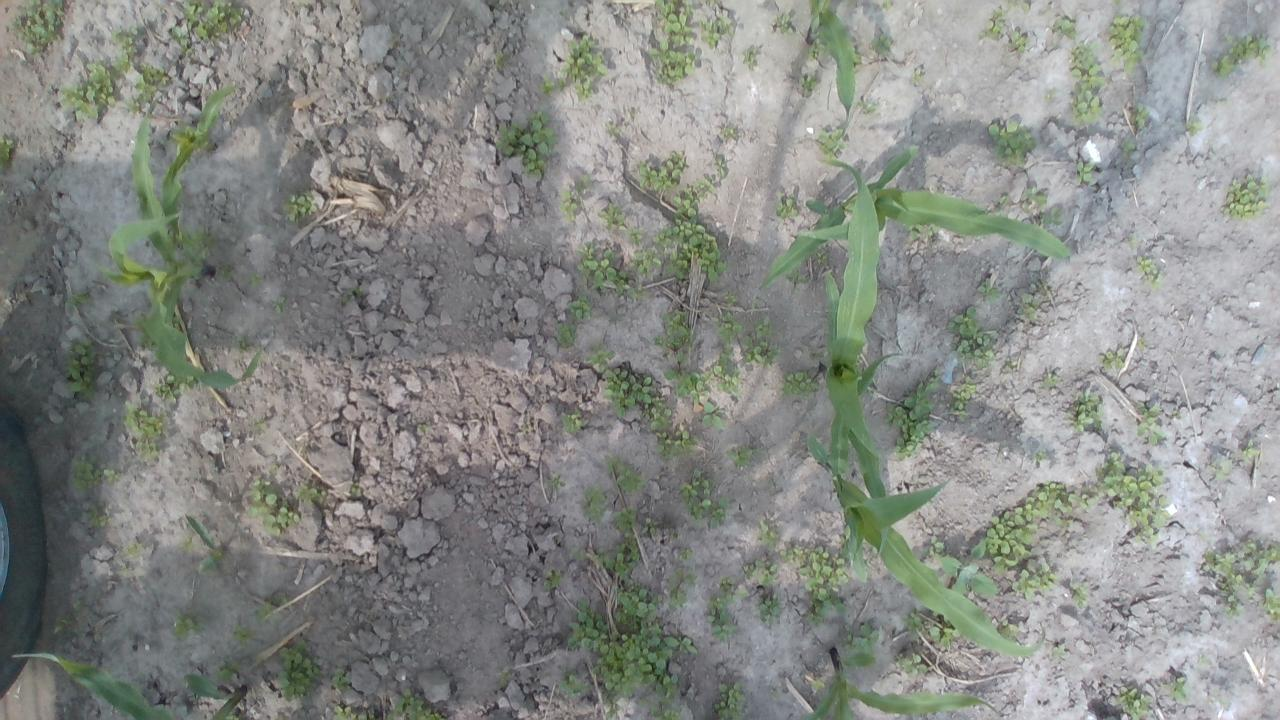Maize: (802, 350, 1043, 660), (746, 145, 1072, 328), (96, 108, 267, 398), (821, 154, 893, 554), (2, 652, 248, 720), (794, 645, 994, 720), (158, 84, 235, 229), (806, 0, 856, 150)
Weeds: (972, 482, 1076, 572), (1094, 450, 1170, 546), (1201, 538, 1280, 622), (595, 625, 673, 697), (884, 374, 942, 461), (654, 218, 728, 282), (798, 546, 848, 628), (496, 110, 556, 178), (60, 58, 119, 126), (558, 34, 608, 102), (1069, 39, 1106, 126), (946, 304, 996, 368), (10, 0, 66, 54), (247, 478, 299, 536), (706, 574, 750, 642), (934, 552, 997, 598), (1104, 11, 1148, 76), (277, 640, 320, 702), (574, 242, 625, 294), (182, 514, 225, 575), (602, 366, 652, 417), (182, 0, 240, 43), (124, 61, 170, 115), (1221, 173, 1270, 220), (649, 39, 698, 86), (64, 335, 98, 400), (592, 533, 640, 579), (568, 598, 608, 652), (613, 580, 661, 624), (988, 122, 1036, 166), (384, 688, 448, 720), (636, 150, 687, 190), (121, 399, 169, 441), (654, 0, 695, 48), (1065, 388, 1106, 435), (680, 468, 714, 524), (664, 368, 715, 405), (1011, 562, 1060, 600), (604, 452, 646, 494), (672, 178, 716, 218), (1226, 31, 1272, 66), (180, 222, 222, 260), (650, 674, 684, 720), (838, 619, 880, 655), (1134, 400, 1166, 446), (656, 426, 698, 461), (950, 373, 979, 423), (714, 348, 742, 397), (154, 371, 198, 402), (661, 307, 695, 347), (110, 25, 138, 72), (700, 14, 735, 51), (69, 452, 101, 492), (1117, 684, 1152, 720), (282, 187, 318, 222), (714, 681, 746, 720), (668, 566, 696, 610), (779, 369, 820, 399), (741, 336, 780, 367), (711, 308, 742, 344), (1134, 254, 1164, 290), (582, 483, 607, 525), (643, 395, 673, 430), (171, 610, 206, 640), (628, 246, 662, 276), (816, 127, 847, 159), (977, 6, 1006, 40), (557, 668, 588, 698), (895, 649, 929, 676), (901, 606, 928, 640), (757, 591, 783, 626), (1015, 292, 1045, 322), (596, 202, 626, 232), (254, 596, 288, 622), (586, 342, 614, 373), (744, 558, 776, 585), (724, 445, 760, 468), (566, 292, 593, 322), (902, 218, 938, 240), (84, 499, 110, 528), (1204, 456, 1234, 481), (774, 188, 799, 218), (663, 635, 699, 655), (702, 400, 726, 430), (170, 24, 192, 56), (612, 505, 636, 534), (559, 190, 581, 221), (976, 276, 1002, 302), (784, 268, 810, 294), (757, 520, 781, 548), (1160, 676, 1186, 701), (1240, 437, 1262, 466), (294, 484, 327, 503), (996, 618, 1020, 644), (216, 658, 240, 684), (626, 278, 652, 302), (1211, 55, 1237, 78), (1099, 347, 1125, 370), (929, 628, 962, 646), (709, 497, 728, 528), (797, 70, 818, 98), (1052, 15, 1076, 39), (332, 704, 368, 720), (1069, 580, 1089, 608), (871, 33, 894, 57), (560, 410, 582, 435), (1077, 484, 1098, 510), (0, 134, 14, 172), (230, 622, 254, 644), (1019, 186, 1048, 204), (1132, 102, 1150, 131), (52, 616, 78, 636), (554, 324, 577, 346), (64, 289, 88, 310), (331, 666, 352, 690), (340, 283, 364, 304), (779, 544, 802, 565), (920, 536, 944, 556), (1008, 30, 1028, 54), (1074, 160, 1094, 184), (1042, 204, 1063, 226), (753, 315, 773, 338), (740, 47, 759, 71), (543, 570, 565, 590), (136, 328, 156, 350), (856, 96, 878, 116), (138, 442, 159, 462), (851, 48, 866, 76), (776, 12, 795, 34), (121, 542, 144, 560), (642, 517, 662, 537), (806, 40, 825, 61), (539, 74, 555, 97), (179, 536, 198, 555), (605, 696, 620, 720), (1184, 117, 1202, 136), (1006, 0, 1032, 13), (1030, 280, 1050, 296), (496, 667, 512, 687), (930, 610, 951, 625), (714, 154, 727, 178), (1052, 642, 1069, 659), (232, 334, 248, 352), (492, 49, 505, 71), (251, 416, 266, 435), (271, 296, 286, 315), (602, 121, 621, 136), (720, 126, 740, 140), (1207, 695, 1230, 707), (1032, 448, 1049, 464), (1042, 372, 1059, 388), (628, 227, 644, 244), (547, 473, 565, 488), (678, 547, 696, 562), (996, 195, 1010, 214), (218, 264, 234, 280), (72, 598, 88, 614), (575, 174, 590, 191), (130, 312, 148, 326), (722, 292, 738, 307), (1127, 230, 1139, 249), (571, 545, 586, 560), (1121, 141, 1136, 156), (810, 678, 826, 692), (250, 272, 264, 288), (104, 468, 120, 482), (816, 249, 829, 265), (840, 524, 850, 544), (913, 66, 923, 86), (1196, 653, 1210, 666), (1004, 359, 1017, 372), (676, 352, 690, 364), (638, 694, 652, 706), (522, 419, 533, 434), (171, 314, 181, 330), (350, 484, 363, 496), (1045, 90, 1056, 102), (1136, 335, 1146, 348), (418, 423, 432, 432), (883, 0, 894, 11), (654, 334, 665, 344), (1174, 410, 1182, 420), (628, 108, 636, 118), (1112, 0, 1124, 5), (706, 0, 714, 6)
